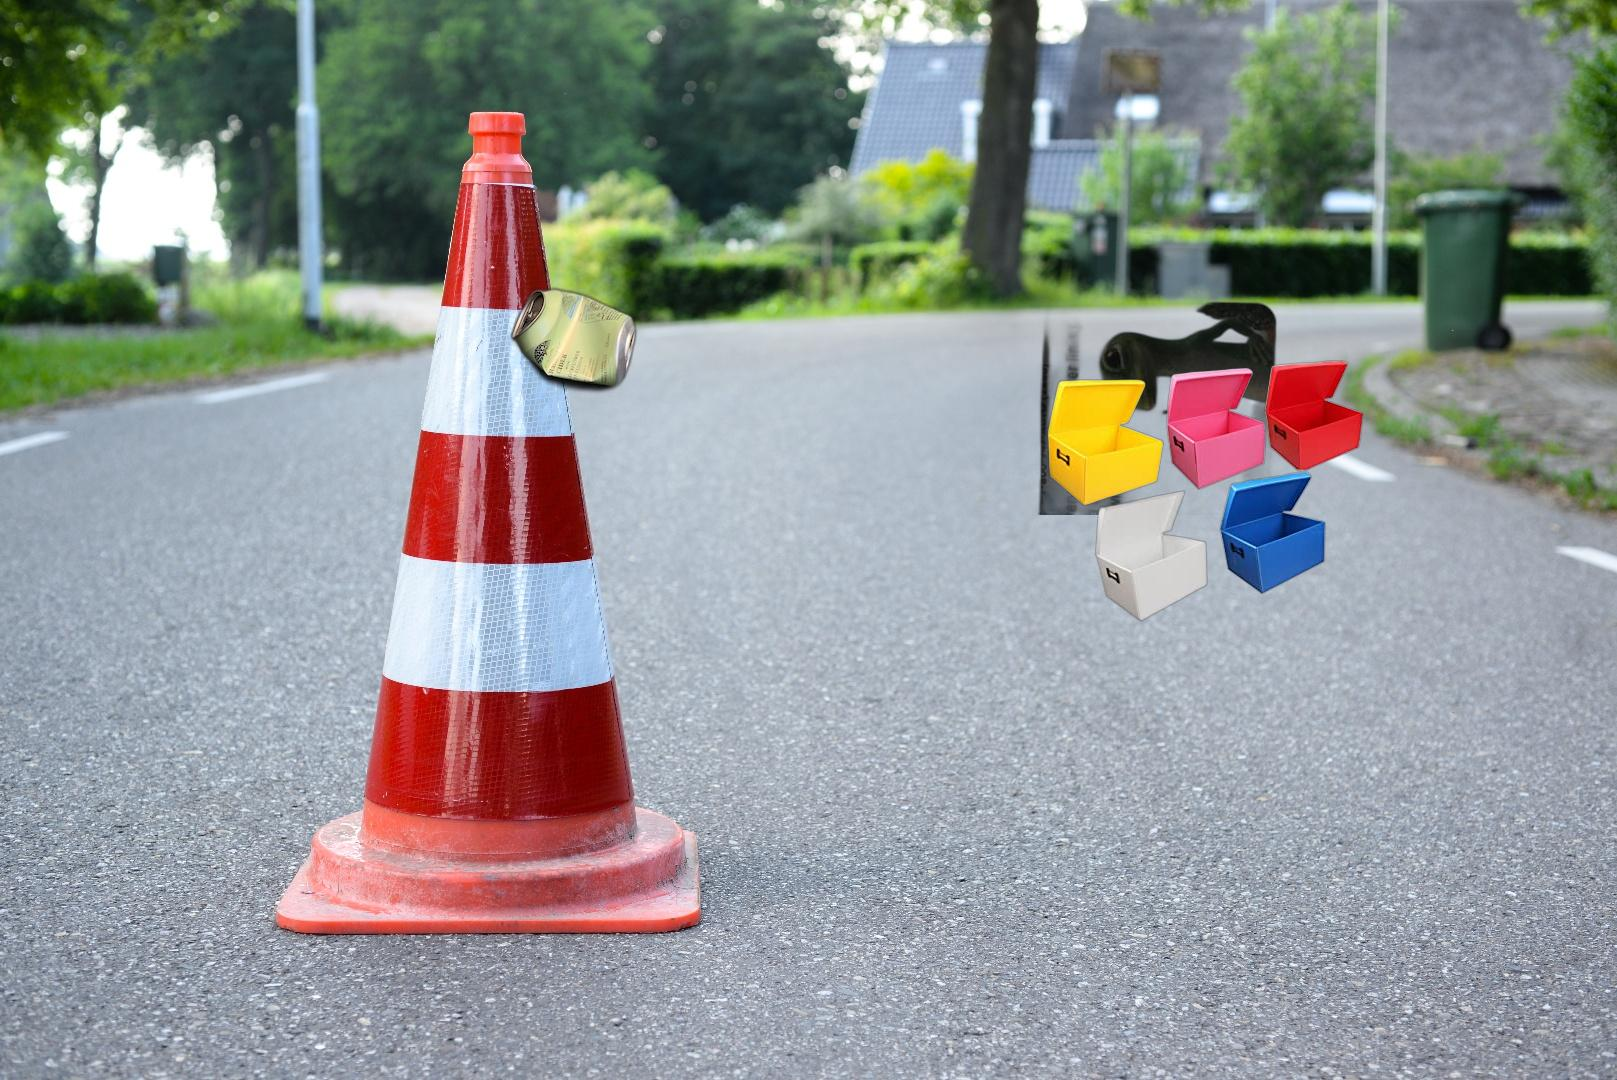metal-cans: (507, 282, 640, 398)
paper: (924, 240, 1334, 515)
trashbox-cardboard: (1046, 360, 1365, 622), (1452, 330, 1617, 714)
